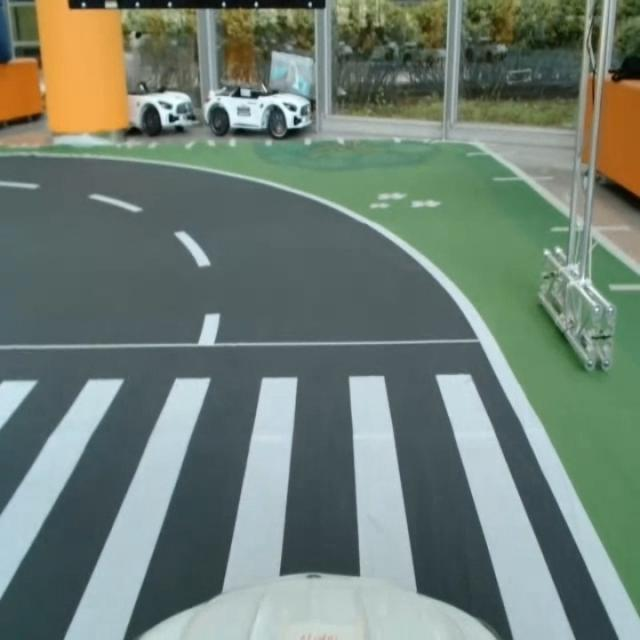traffic-light: (58, 0, 330, 14)
